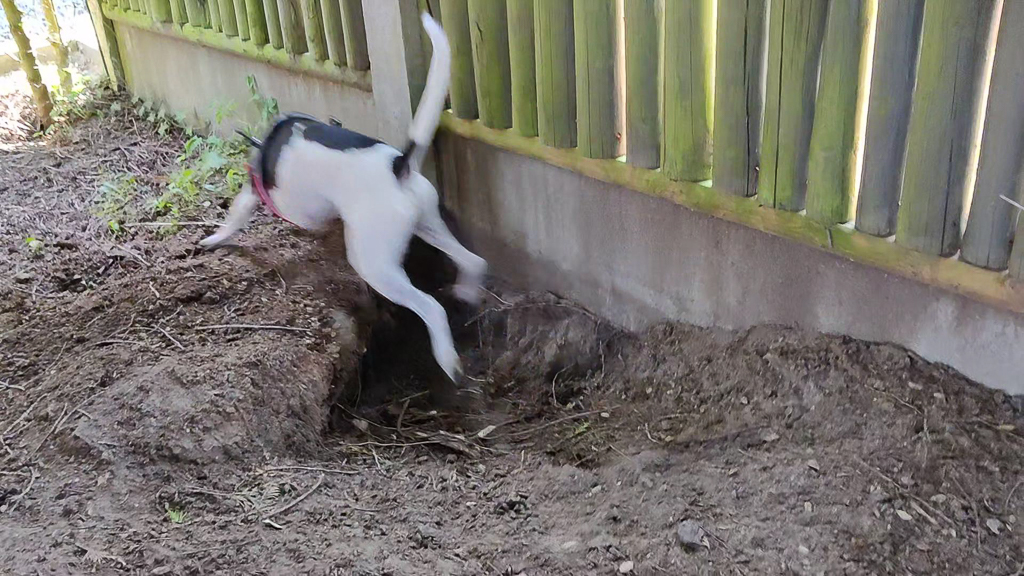Dog: (188, 6, 499, 404)
